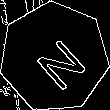N_NW: (23, 25, 86, 89)
